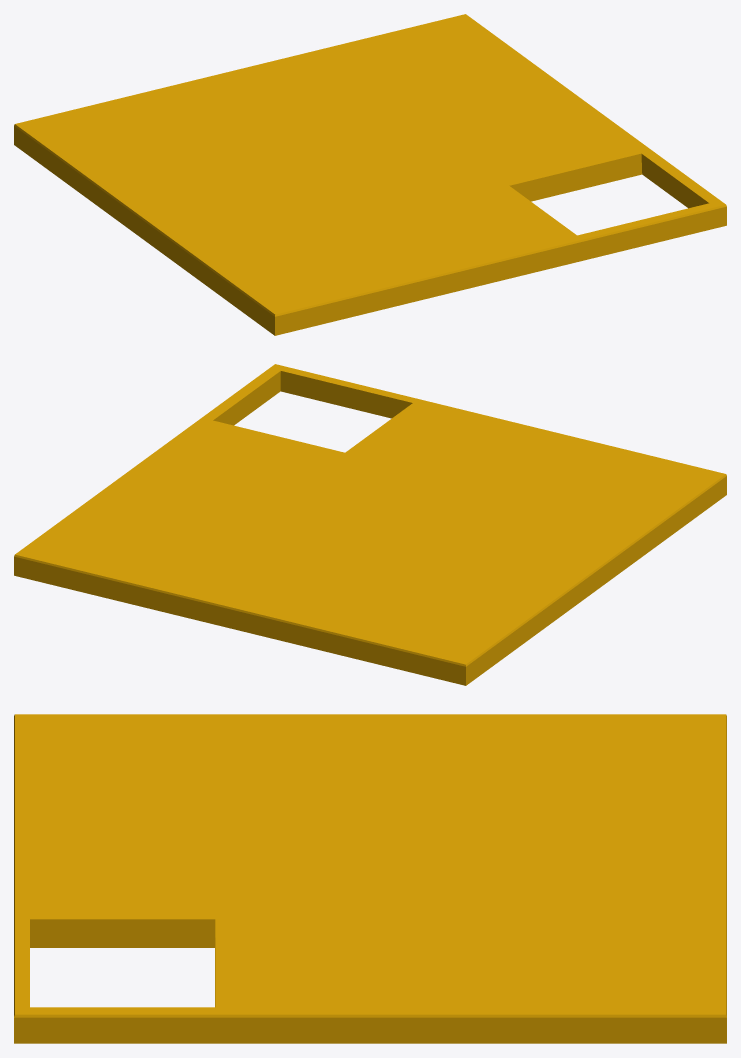
The model's file is Move_Game_SliderHole_03.fbx.
The picture shows the model from 3 angles, top to bottom: view 1: azimuth 30°, elevation 25°; view 2: azimuth 150°, elevation 25°; view 3: azimuth 270°, elevation 25°; orthographic projection. The views are drawn at different scales.
Visible parts, largest first — view 1: Move_Game_SliderHole_03; view 2: Move_Game_SliderHole_03; view 3: Move_Game_SliderHole_03.
Boxes of the visible parts, box(x1,y1,x2,y2) form: Move_Game_SliderHole_03: box(14, 14, 726, 335); Move_Game_SliderHole_03: box(14, 364, 726, 685); Move_Game_SliderHole_03: box(14, 714, 726, 1043).
Size of the model in its own units: 17.29 by 0.7676 by 17.29.
